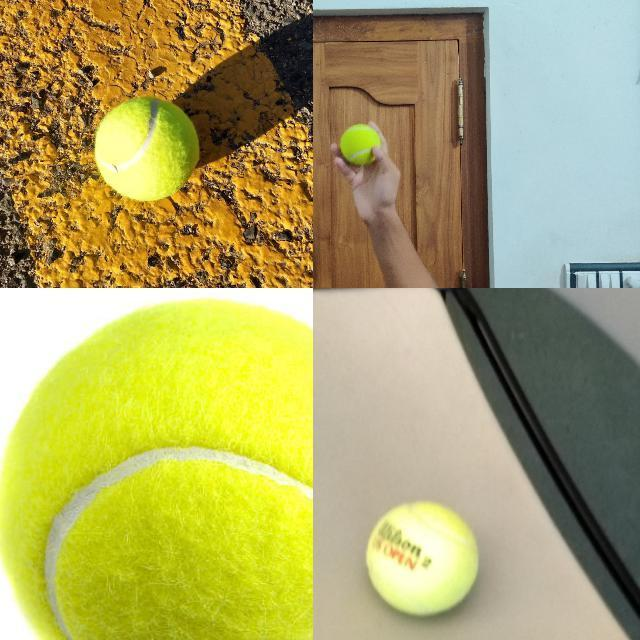tennis-ball: (0, 300, 312, 639), (362, 501, 480, 618), (91, 95, 203, 202), (339, 122, 381, 164)
